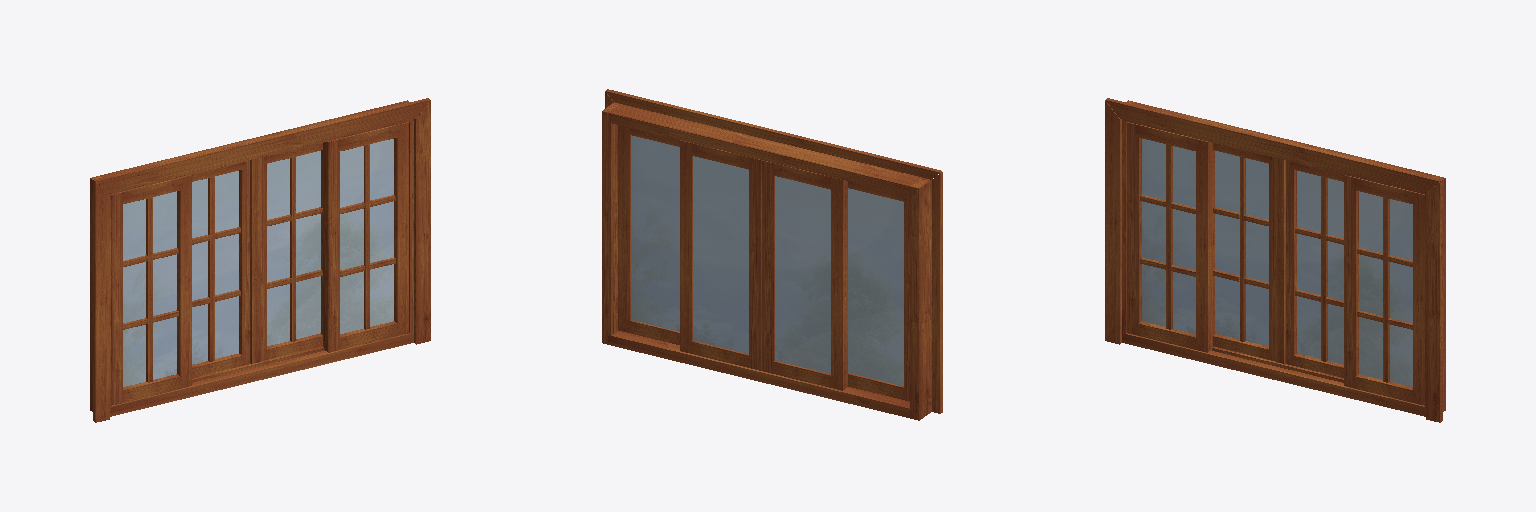
3 views of the same model, side by side, from view 1: azimuth 30°, elevation 25°; view 2: azimuth 150°, elevation 25°; view 3: azimuth 330°, elevation 25° (orthographic).
Parts seen in each view (by area): view 1: glass002, glass004, glass001, glass003, trim_top, trim_left, trim_right, box_bottom, window_left001, window_right, window_right001, window_left (+17 smaller); view 2: glass001, glass004, glass003, glass002, box_top, box_left, box_bottom, trim_top, box_right, window_right002, window_left003, window_left002 (+10 smaller); view 3: glass003, glass002, glass001, glass004, trim_top, trim_right, trim_left, box_bottom, window_right, window_left001, window_left, window_right001 (+17 smaller).
Part boxes in pixels (bbox=[...]): glass002: bbox=[340, 139, 393, 333]; glass004: bbox=[267, 151, 320, 345]; glass001: bbox=[123, 191, 176, 386]; glass003: bbox=[192, 171, 238, 364]; trim_top: bbox=[94, 98, 429, 193]; trim_left: bbox=[93, 180, 109, 422]; trim_right: bbox=[414, 100, 430, 344]; box_bottom: bbox=[110, 333, 413, 416]; window_left001: bbox=[323, 139, 339, 352]; window_right: bbox=[177, 175, 191, 387]; window_right001: bbox=[394, 122, 408, 334]; window_left: bbox=[111, 192, 122, 405]; glass001: bbox=[848, 188, 903, 385]; glass004: bbox=[693, 156, 748, 353]; glass003: bbox=[775, 176, 830, 373]; glass002: bbox=[631, 135, 679, 331]; box_top: bbox=[608, 104, 921, 195]; box_left: bbox=[910, 178, 931, 420]; box_bottom: bbox=[608, 331, 912, 417]; trim_top: bbox=[606, 89, 941, 179]; box_right: bbox=[602, 102, 618, 344]; window_right002: bbox=[831, 177, 847, 390]; window_left003: bbox=[749, 157, 761, 370]; window_left002: bbox=[762, 160, 774, 373]; glass003: bbox=[1215, 151, 1268, 345]; glass002: bbox=[1359, 191, 1412, 386]; glass001: bbox=[1142, 139, 1195, 333]; glass004: bbox=[1297, 171, 1343, 364]; trim_top: bbox=[1106, 98, 1441, 193]; trim_right: bbox=[1426, 180, 1442, 422]; trim_left: bbox=[1105, 100, 1121, 344]; box_bottom: bbox=[1122, 333, 1424, 416]; window_right: bbox=[1196, 139, 1212, 352]; window_left001: bbox=[1344, 175, 1358, 388]; window_left: bbox=[1127, 122, 1141, 335]; window_right001: bbox=[1413, 192, 1424, 405].
Bounding box in the file's own units: 56 × 38.48 × 4.25.
Materials: 7 (7 with a texture image).